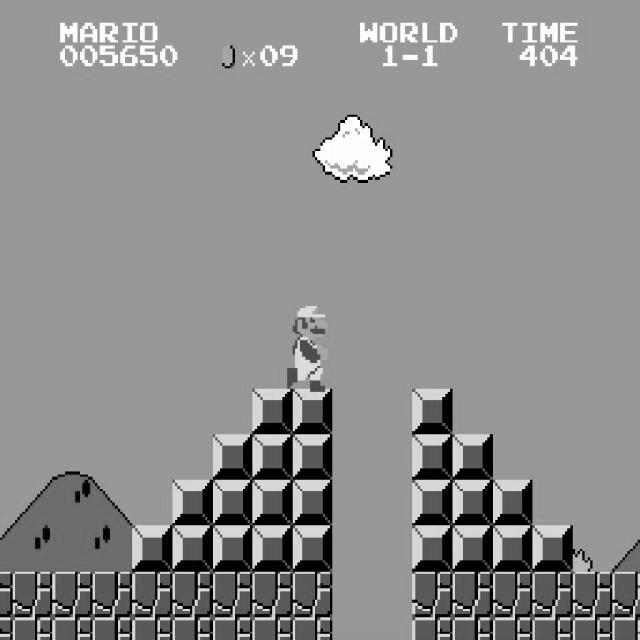17- undestructible_block: (12, 572, 53, 618), (52, 572, 93, 618), (92, 572, 133, 618), (132, 572, 173, 618), (172, 572, 213, 618), (212, 572, 253, 618), (252, 572, 293, 618), (292, 572, 333, 618), (412, 572, 453, 618), (452, 572, 493, 618), (492, 572, 533, 618), (532, 572, 573, 618), (572, 572, 613, 618), (612, 572, 640, 618), (12, 617, 53, 640), (52, 617, 93, 640), (92, 617, 133, 640), (132, 617, 173, 640), (172, 617, 213, 640), (212, 617, 253, 640), (252, 617, 293, 640), (292, 617, 333, 640), (412, 617, 453, 640), (452, 617, 493, 640), (492, 617, 533, 640), (532, 617, 573, 640), (572, 617, 613, 640), (612, 617, 640, 640), (0, 572, 13, 618), (0, 617, 13, 640)
4- fire_mario: (284, 298, 328, 392)
9- hard_block: (132, 526, 173, 572), (172, 480, 213, 526), (172, 526, 213, 572), (212, 434, 253, 480), (212, 480, 253, 526), (212, 526, 253, 572), (252, 388, 293, 434), (252, 434, 293, 480), (252, 480, 293, 526), (252, 526, 293, 572), (292, 388, 333, 434), (292, 434, 333, 480), (292, 480, 333, 526), (292, 526, 333, 572), (412, 388, 453, 434), (412, 434, 453, 480), (412, 480, 453, 526), (412, 526, 453, 572), (452, 434, 493, 480), (452, 480, 493, 526), (452, 526, 493, 572), (492, 480, 533, 526), (492, 526, 533, 572), (532, 526, 573, 572)
